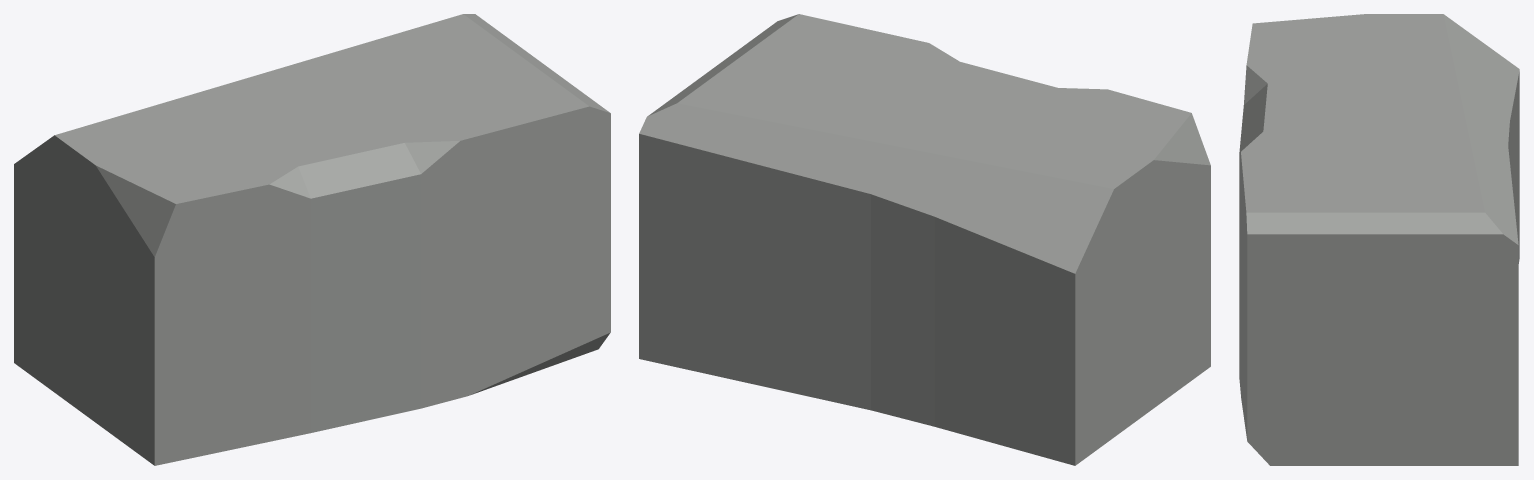
File: Rock_Block_m_15.fbx
3 renders of one model, left to right at view 1: azimuth 30°, elevation 25°; view 2: azimuth 150°, elevation 25°; view 3: azimuth 270°, elevation 25°, orthographic. The views are drawn at different scales.
Parts seen in each view (by area): view 1: Rock_Block_m_15; view 2: Rock_Block_m_15; view 3: Rock_Block_m_15.
Part boxes in pixels (bbox=[...]): Rock_Block_m_15: bbox=[14, 14, 610, 465]; Rock_Block_m_15: bbox=[639, 14, 1210, 465]; Rock_Block_m_15: bbox=[1239, 14, 1519, 465].
Size of the model in its own units: 107 by 58.25 by 60.89.
